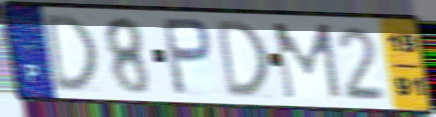2: (334, 24, 387, 103)
8: (102, 15, 153, 96)
D: (42, 11, 100, 95), (214, 17, 271, 101)
M: (270, 20, 345, 102)
P: (159, 15, 215, 99)
